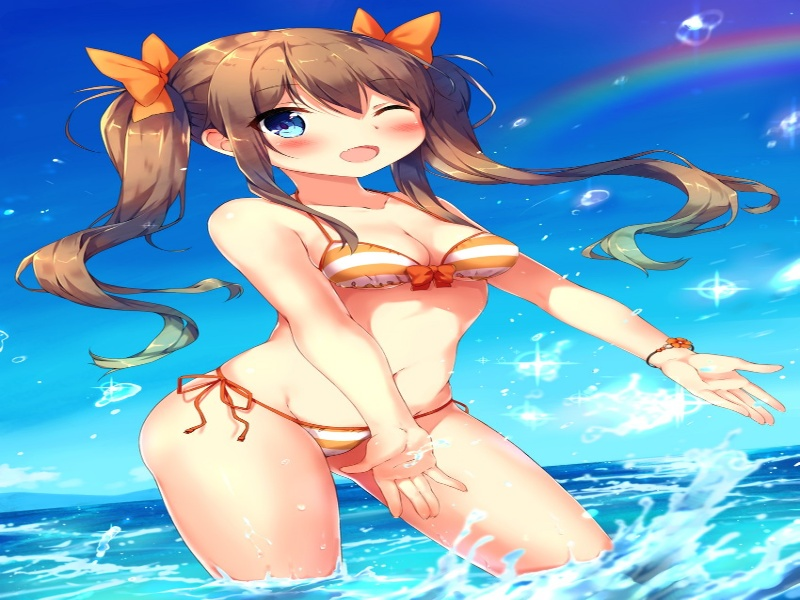person: (217, 61, 440, 189)
